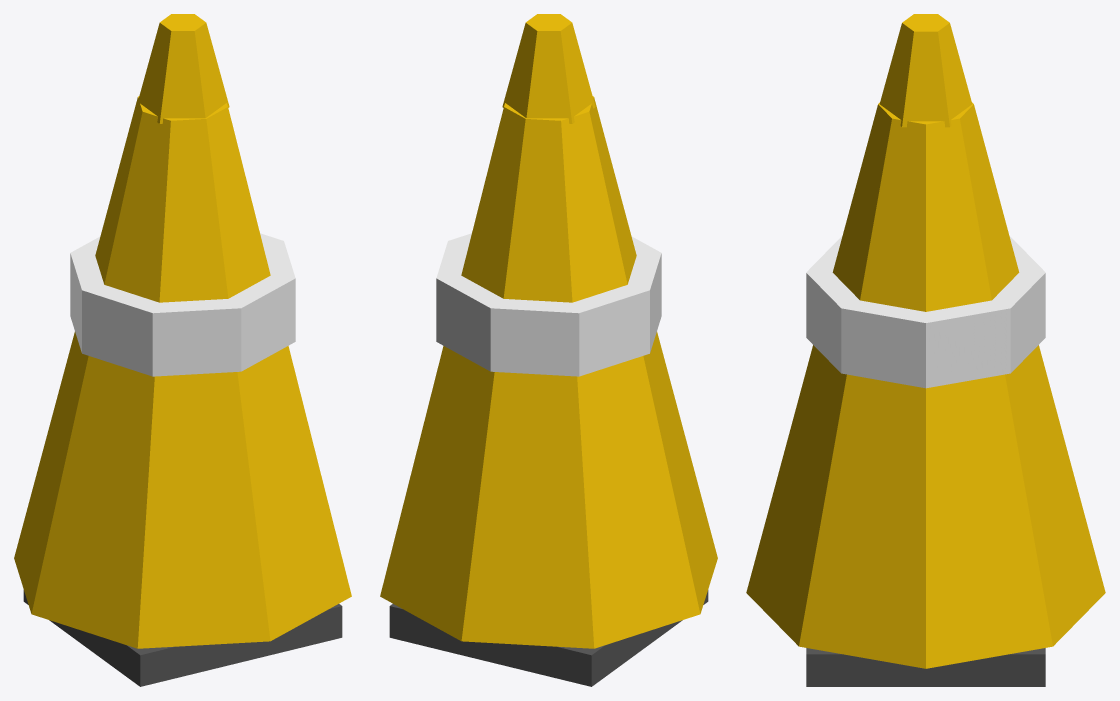
The model's file is traffic_cone.glb.
3 renders of one model, left to right at view 1: azimuth 30°, elevation 25°; view 2: azimuth 150°, elevation 25°; view 3: azimuth 270°, elevation 25°, orthographic. The views are drawn at different scales.
Parts seen in each view (by area): view 1: traffic_cone; view 2: traffic_cone; view 3: traffic_cone.
Part boxes in pixels (x1=…): traffic_cone: x1=14, y1=14, x2=351, y2=686; traffic_cone: x1=380, y1=14, x2=717, y2=686; traffic_cone: x1=746, y1=14, x2=1105, y2=686.
Bounding box in the file's own units: 0.3 × 0.565 × 0.3.
